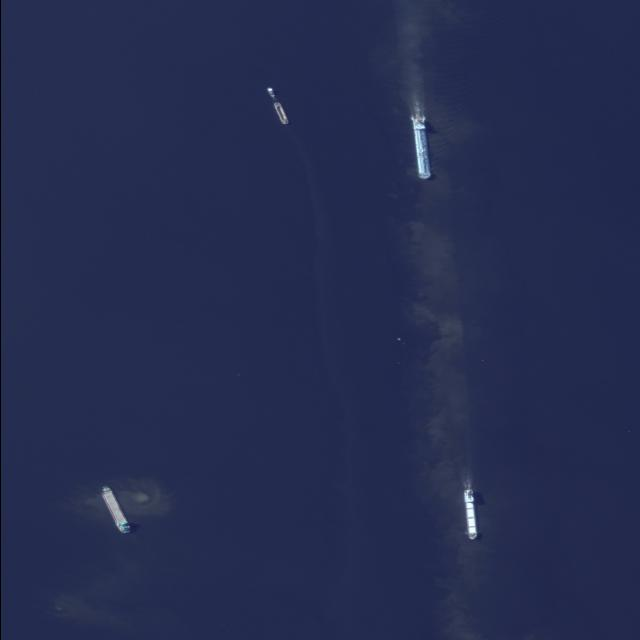ship: (98, 486, 130, 534), (408, 118, 431, 180), (461, 489, 477, 540), (273, 103, 288, 125), (266, 88, 275, 98), (397, 338, 400, 340)
